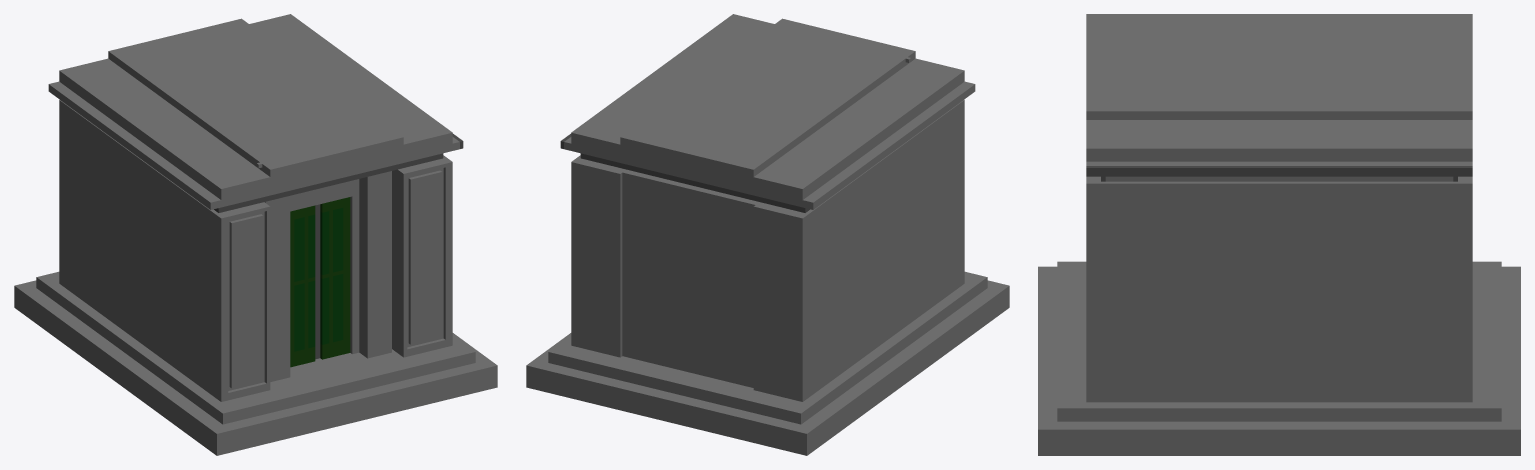
The model's file is Masoleum2-0-LOD0.obj.
3 views of the same model, side by side, from view 1: azimuth 30°, elevation 25°; view 2: azimuth 150°, elevation 25°; view 3: azimuth 270°, elevation 25° (orthographic). The views are drawn at different scales.
Visible parts, largest first — view 1: LOD0; view 2: LOD0; view 3: LOD0.
Boxes of the visible parts, box(x1,y1,x2,y2) form: LOD0: box(14, 14, 497, 455); LOD0: box(526, 14, 1009, 455); LOD0: box(1038, 14, 1520, 455).
Size of the model in its own units: 8 by 6.9 by 10.
Materials: 1 (1 with a texture image).
